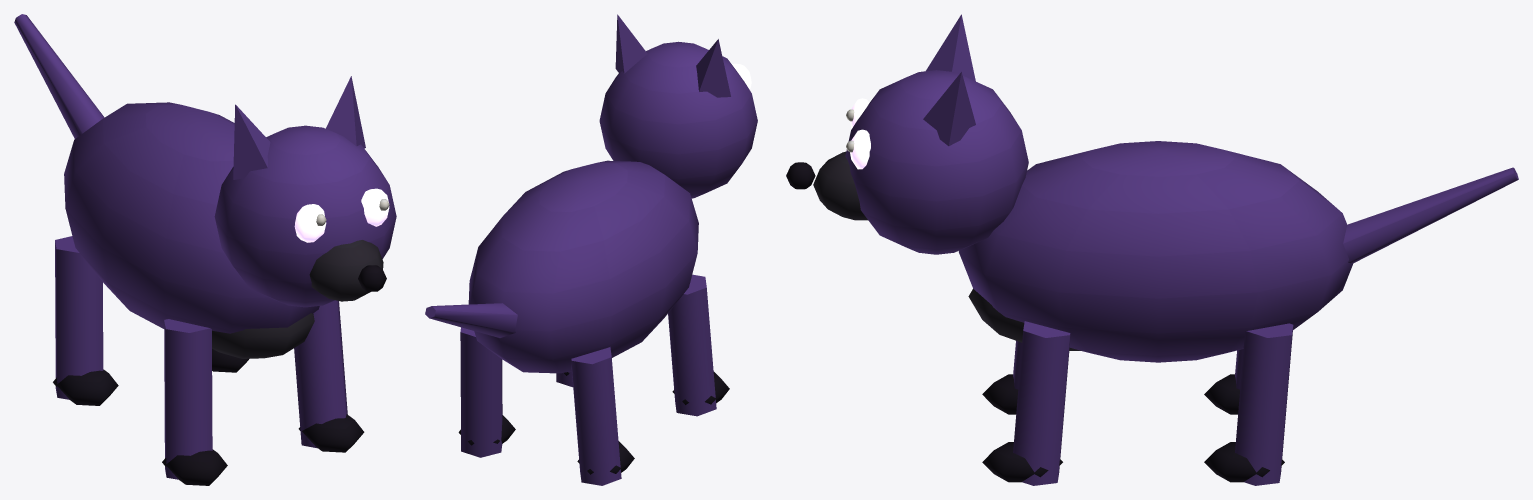
Rendered from monster_lynx.glb.
3 views of the same model, side by side, from view 1: azimuth 30°, elevation 25°; view 2: azimuth 150°, elevation 25°; view 3: azimuth 270°, elevation 25° (orthographic). The views are drawn at different scales.
Parts seen in each view (by area): view 1: body_t0_palette, legl_t0_palette, legr_t0_palette, tail_t0_palette, body_t0_glow_violet; view 2: body_t0_palette, legl_t0_palette, legr_t0_palette, tail_t0_palette; view 3: body_t0_palette, legr_t0_palette, tail_t0_palette, legl_t0_palette, body_t0_glow_violet.
Part boxes in pixels (bbox=[...]): body_t0_palette: bbox=[64, 76, 396, 358]; legl_t0_palette: bbox=[53, 236, 227, 485]; legr_t0_palette: bbox=[212, 300, 364, 452]; tail_t0_palette: bbox=[14, 14, 104, 138]; body_t0_glow_violet: bbox=[294, 188, 389, 242]; body_t0_palette: bbox=[468, 14, 757, 373]; legl_t0_palette: bbox=[571, 274, 729, 485]; legr_t0_palette: bbox=[458, 327, 573, 457]; tail_t0_palette: bbox=[425, 303, 517, 337]; body_t0_palette: bbox=[786, 14, 1353, 362]; legr_t0_palette: bbox=[982, 321, 1293, 485]; tail_t0_palette: bbox=[1343, 167, 1518, 263]; legl_t0_palette: bbox=[982, 341, 1243, 414]; body_t0_glow_violet: bbox=[850, 98, 870, 169].
Size of the model in its own units: 0.18 by 0.3603 by 0.5945.
